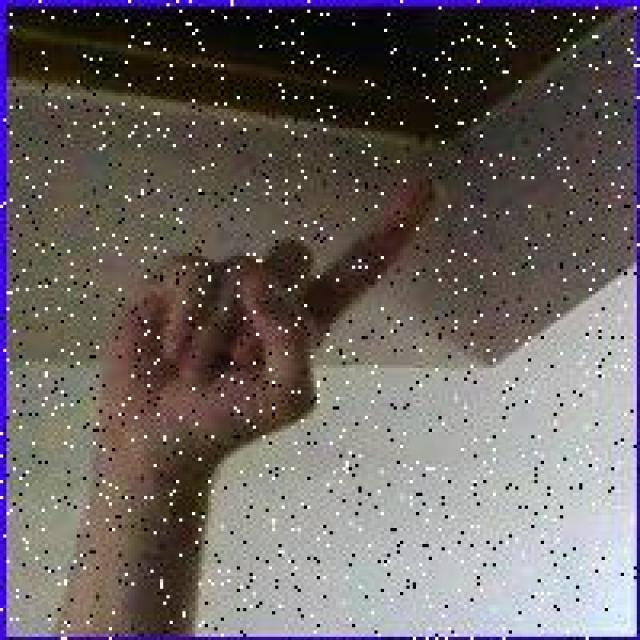Z: (110, 165, 443, 443)
